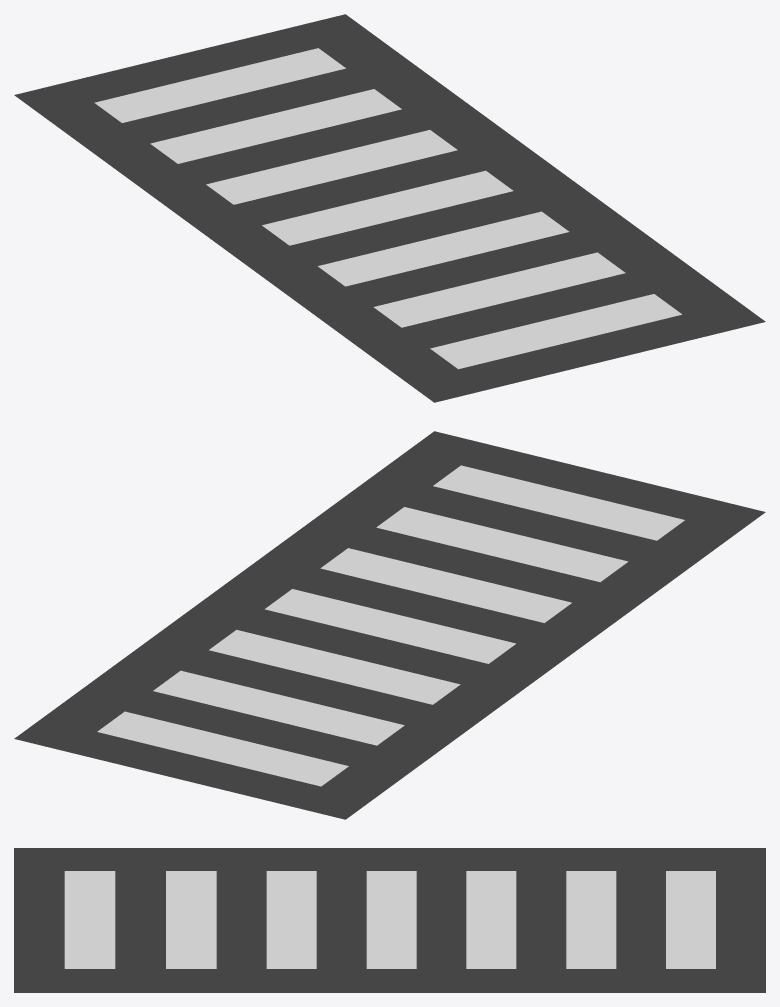
Rendered from Road Crosswalk.fbx.
3 views of the same model, one above another, from view 1: azimuth 30°, elevation 25°; view 2: azimuth 150°, elevation 25°; view 3: azimuth 270°, elevation 25° (orthographic). The views are drawn at different scales.
Visible parts, largest first — view 1: Road Crosswalk.001; view 2: Road Crosswalk.001; view 3: Road Crosswalk.001.
Boxes of the visible parts, x1,y1,x2,y2 form: Road Crosswalk.001: (14, 14, 765, 402); Road Crosswalk.001: (14, 431, 765, 819); Road Crosswalk.001: (14, 848, 765, 992).
Bounding box in the file's own units: 492 × 1081 × 0.000704.
